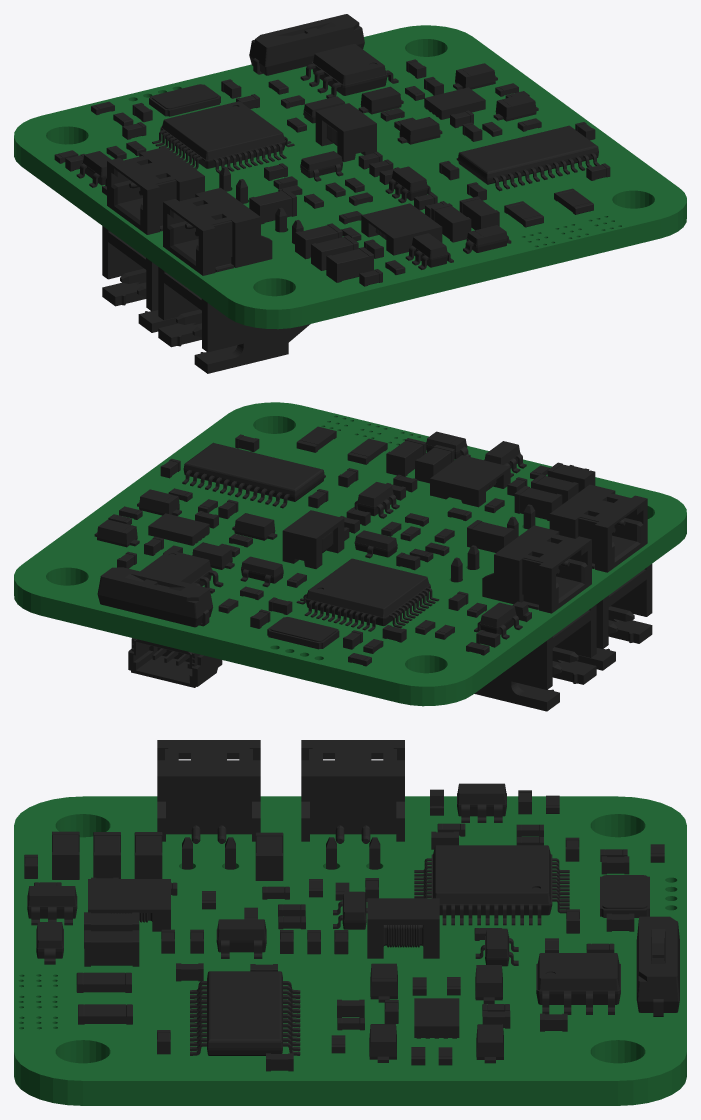
Rendered from body.glb.
3 views of the same model, one above another, from view 1: azimuth 30°, elevation 25°; view 2: azimuth 150°, elevation 25°; view 3: azimuth 270°, elevation 25° (orthographic). The views are drawn at different scales.
Parts seen in each view (by area): view 1: parts, pcb; view 2: parts, pcb; view 3: pcb, parts.
Part boxes in pixels (x1,y1,x2,y2): parts: (54,14,610,373); pcb: (14,25,686,329); parts: (94,426,652,711); pcb: (14,402,686,706); pcb: (14,796,686,1105); parts: (24,740,679,1071).
Bounding box in the file's own units: 0.039 × 0.0115 × 0.039.
